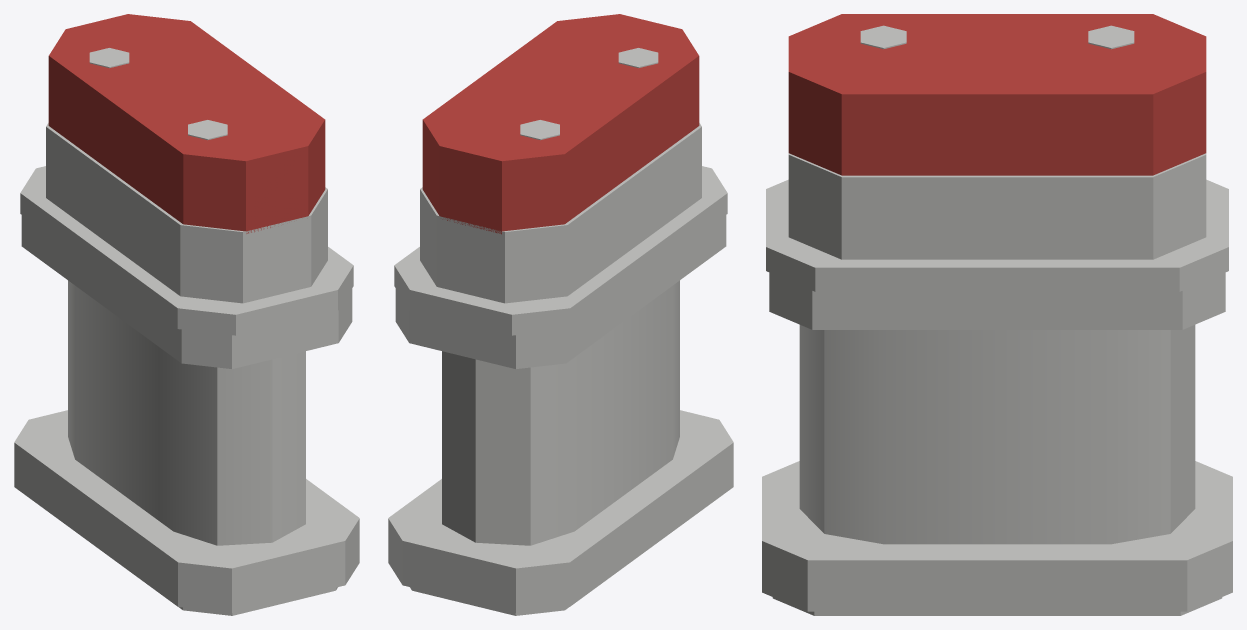
The model's file is hot_cam_lod2.glb.
The picture shows the model from 3 angles, left to right: view 1: azimuth 30°, elevation 25°; view 2: azimuth 150°, elevation 25°; view 3: azimuth 270°, elevation 25°; orthographic projection. The views are drawn at different scales.
Parts seen in each view (by area): view 1: hot_cam_lod2; view 2: hot_cam_lod2; view 3: hot_cam_lod2.
Part boxes in pixels (x1,y1,x2,y2): hot_cam_lod2: (14, 14, 359, 615); hot_cam_lod2: (388, 14, 733, 615); hot_cam_lod2: (762, 14, 1232, 615).
Size of the model in its own units: 0.128 by 0.3 by 0.248.
